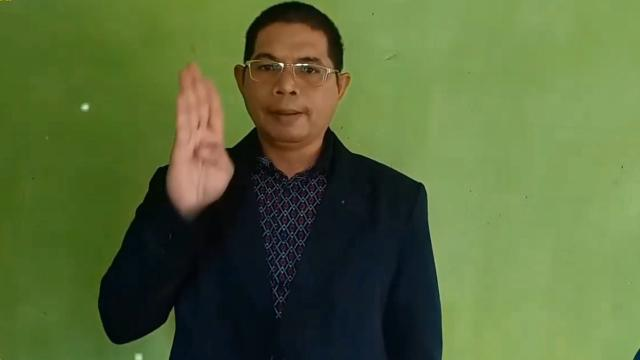B: (174, 59, 236, 211)
